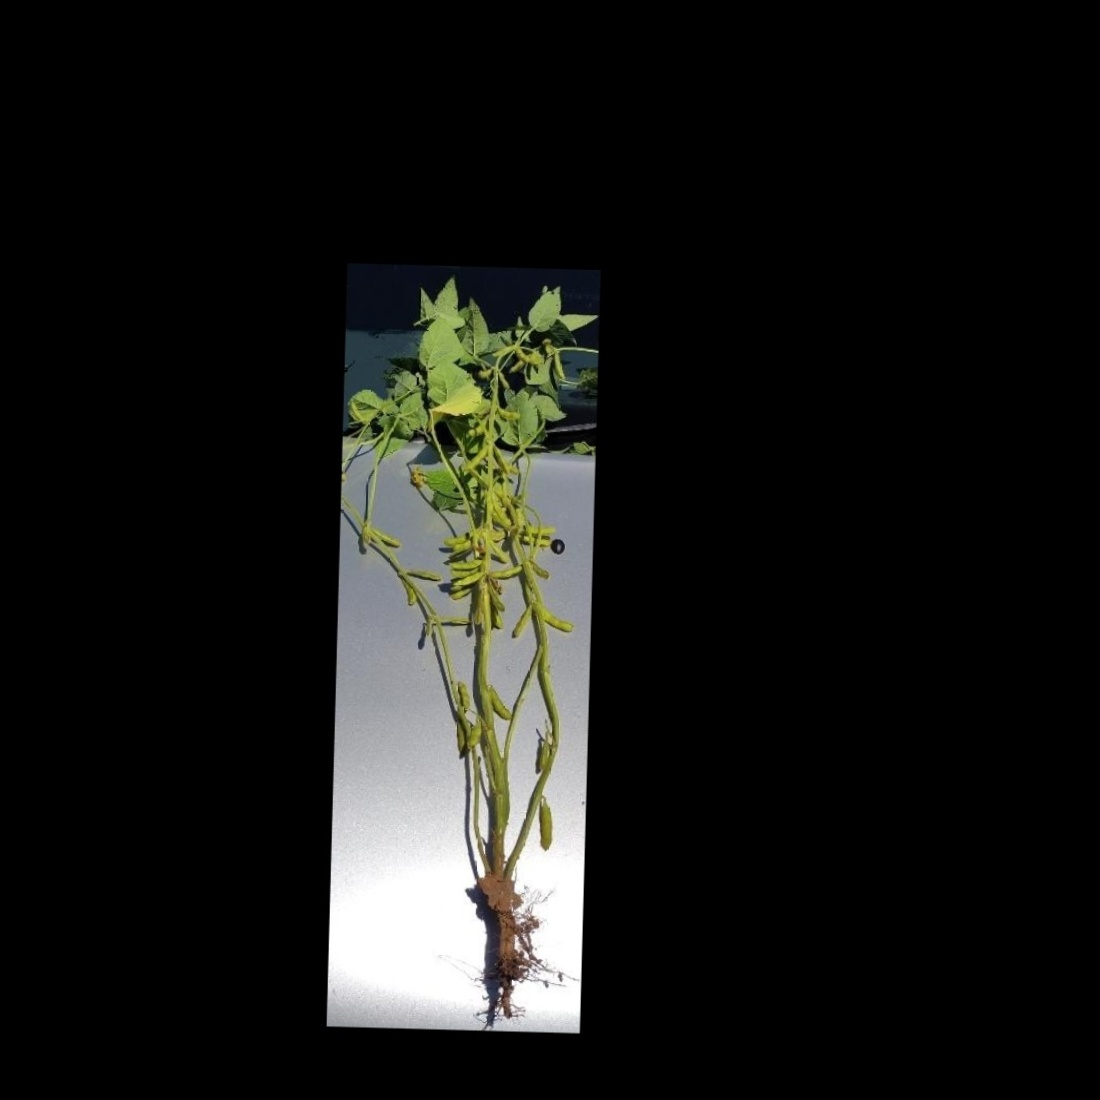pod: (532, 799, 557, 858), (506, 597, 536, 643), (459, 439, 492, 476), (482, 531, 512, 568), (489, 681, 515, 722), (543, 606, 577, 636), (403, 566, 447, 583), (451, 569, 487, 590), (485, 563, 524, 581), (455, 676, 473, 712), (445, 555, 484, 571), (494, 404, 523, 423)
soy: (337, 298, 582, 999)
